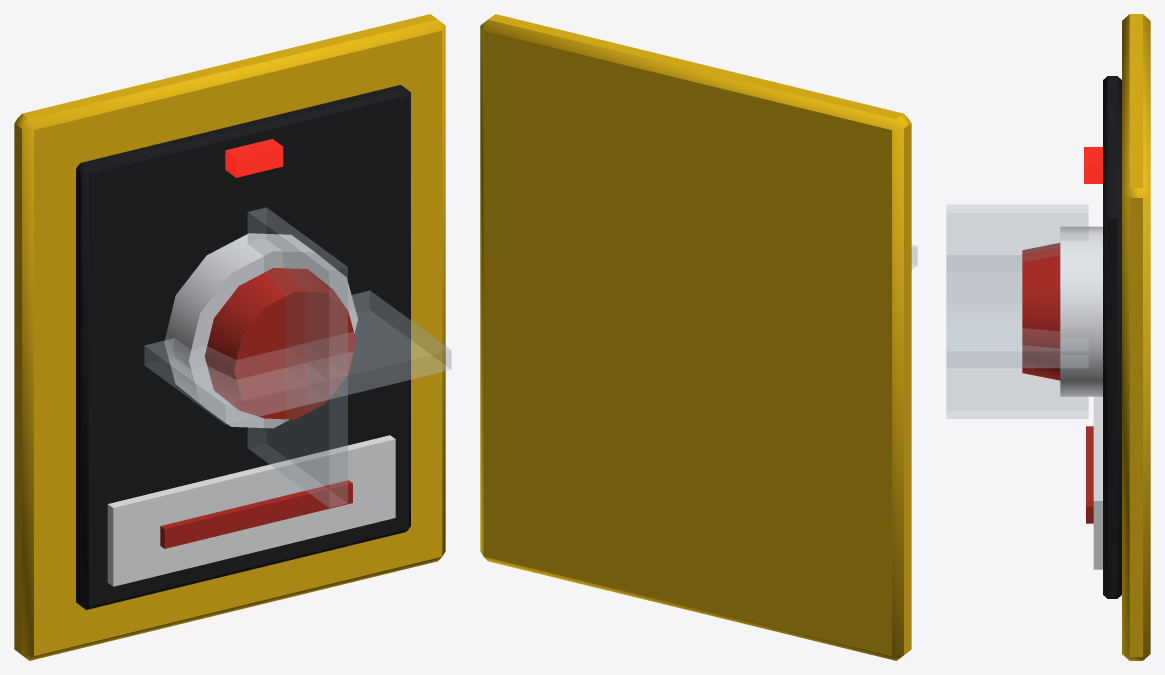
The model's file is valve_emergency_shutoff.glb.
The picture shows the model from 3 angles, left to right: view 1: azimuth 30°, elevation 25°; view 2: azimuth 150°, elevation 25°; view 3: azimuth 270°, elevation 25°; orthographic projection. The views are drawn at different scales.
Parts seen in each view (by area): view 1: valve_emergency_shutoff; view 2: valve_emergency_shutoff; view 3: valve_emergency_shutoff.
Boxes of the visible parts, <box> form: valve_emergency_shutoff: <box>14,14,451,660</box>; valve_emergency_shutoff: <box>480,14,917,660</box>; valve_emergency_shutoff: <box>946,14,1150,660</box>.
Bounding box in the file's own units: 0.45 × 0.55 × 0.215.
